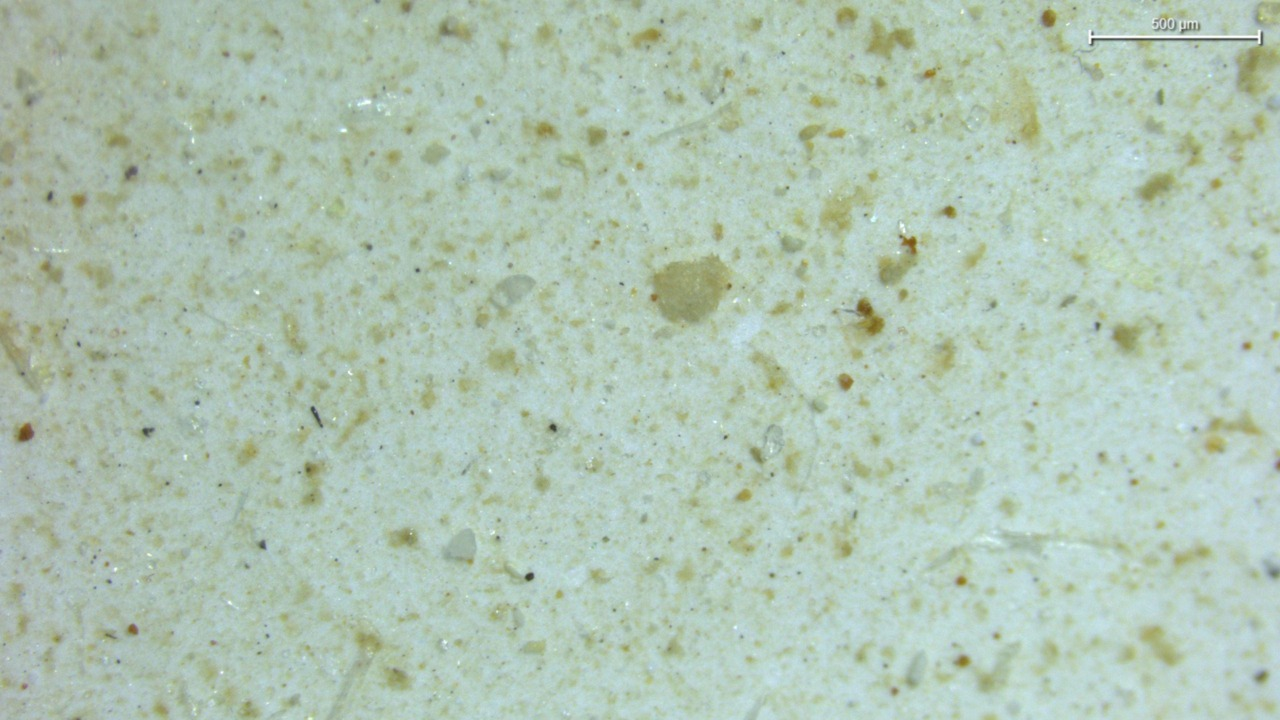microplastic_fragment: (652, 256, 730, 322), (490, 275, 536, 309), (443, 529, 476, 560), (760, 424, 785, 461)
